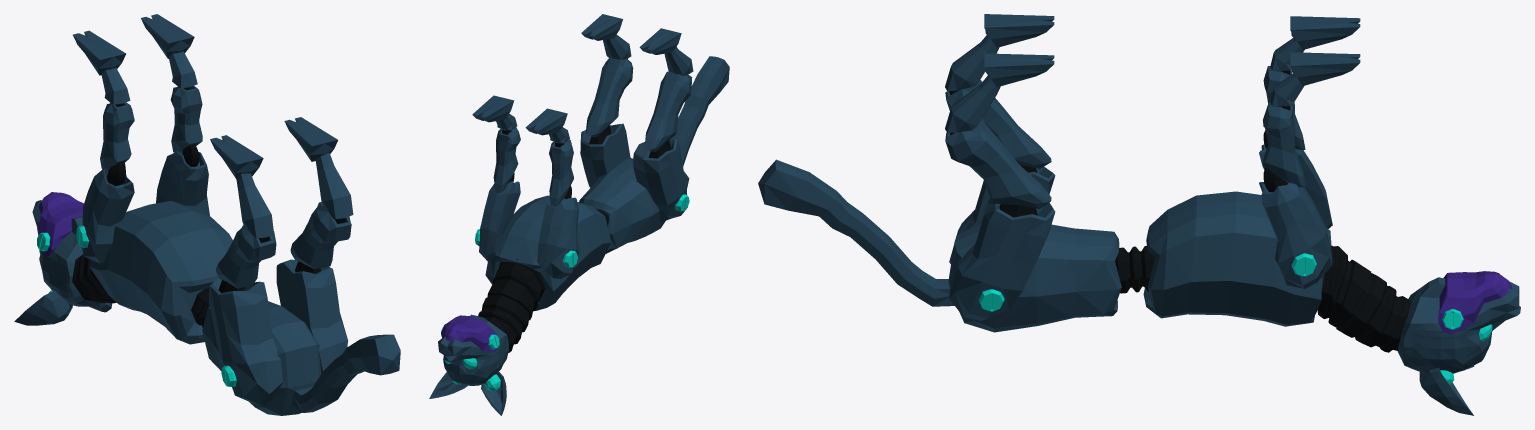
The model's file is Felicity.fbx.
The picture shows the model from 3 angles, left to right: view 1: azimuth 30°, elevation 25°; view 2: azimuth 150°, elevation 25°; view 3: azimuth 270°, elevation 25°; orthographic projection. The views are drawn at different scales.
Parts seen in each view (by area): view 1: Box013; view 2: Box013; view 3: Box013.
Boxes of the visible parts, <box> form: Box013: <box>14,14,400,415</box>; Box013: <box>429,14,729,415</box>; Box013: <box>758,14,1520,415</box>.
Size of the model in its own units: 16.77 by 81.96 by 41.8.
